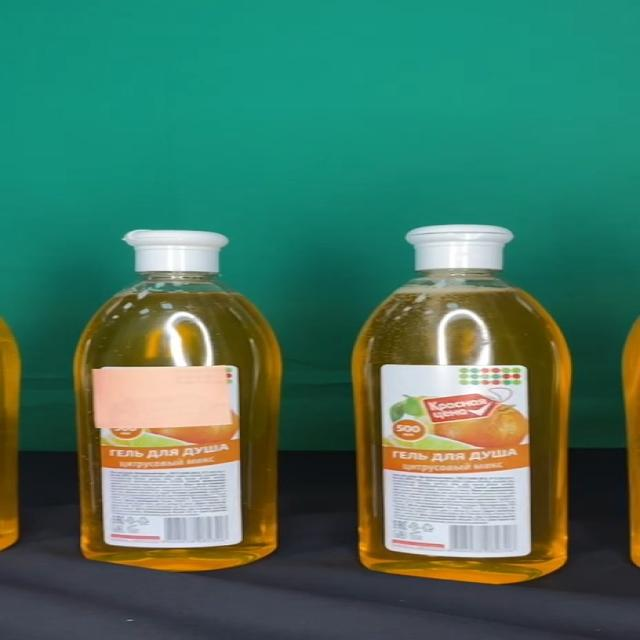Bottle: (352, 225, 570, 584), (76, 229, 286, 572)
Cap: (124, 229, 230, 273), (407, 226, 512, 269)
